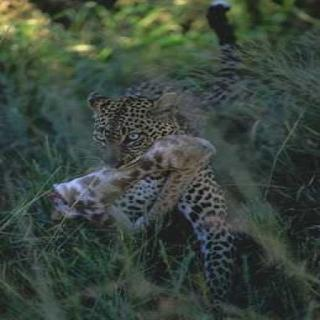Leopard: (67, 66, 250, 288)
